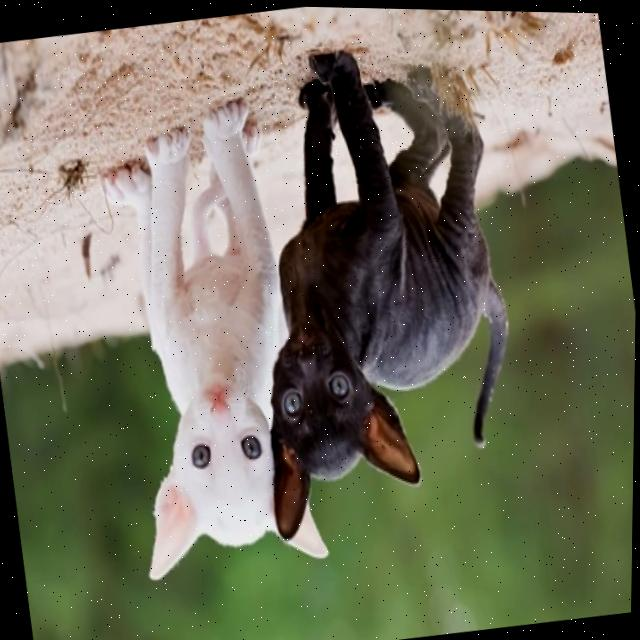Cornish Rex: (208, 23, 544, 550), (78, 85, 341, 592)
